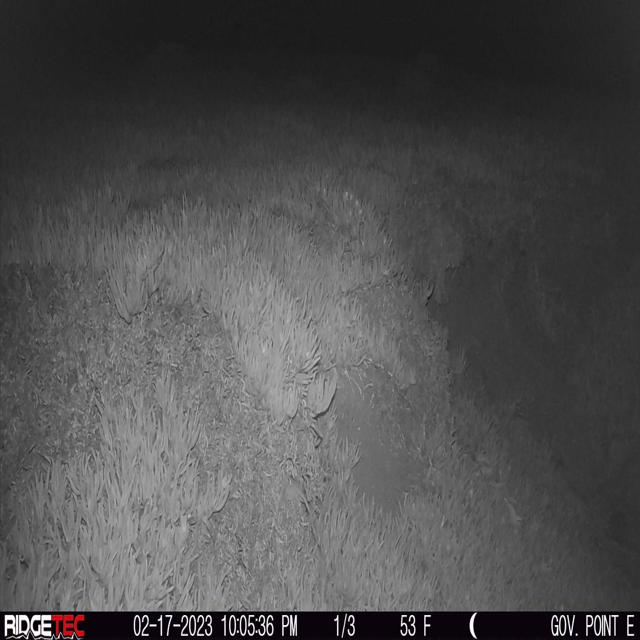rodent: (276, 466, 318, 535)
